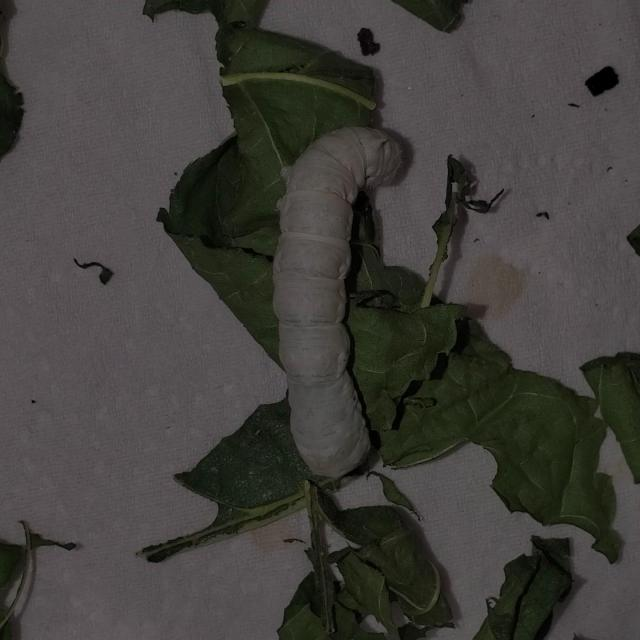Healthy: (260, 113, 418, 484)
